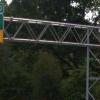Tree: (6, 22, 78, 100)
